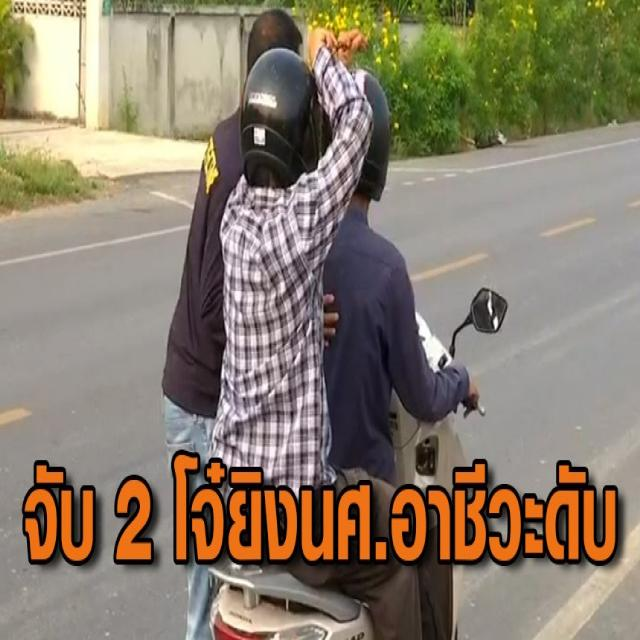helmet: (240, 51, 322, 195)
